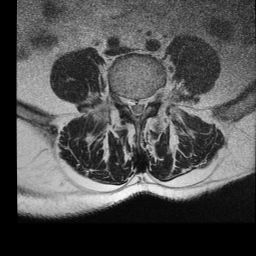CCS_normal: (133, 89, 141, 125)
LFS_normal: (148, 87, 156, 109)
LLS_normal: (141, 91, 148, 118)
RFS_normal: (120, 89, 126, 113)
RLS_normal: (126, 91, 133, 118)
